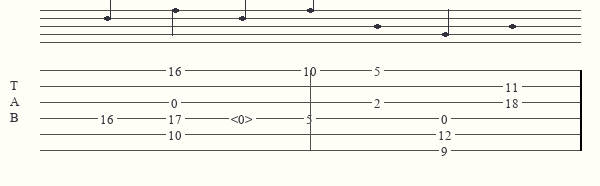0: (171, 96, 182, 109), (441, 112, 452, 125)
10: (168, 128, 186, 141), (303, 64, 321, 77)
11: (505, 80, 523, 93)
12: (438, 128, 456, 141)
16: (100, 112, 118, 125), (168, 64, 186, 77)
17: (168, 112, 186, 125)
18: (505, 96, 523, 109)
2: (374, 96, 385, 109)
5: (306, 112, 317, 125), (374, 64, 385, 77)
9: (441, 144, 452, 157)
harmonic: (231, 112, 257, 125)
